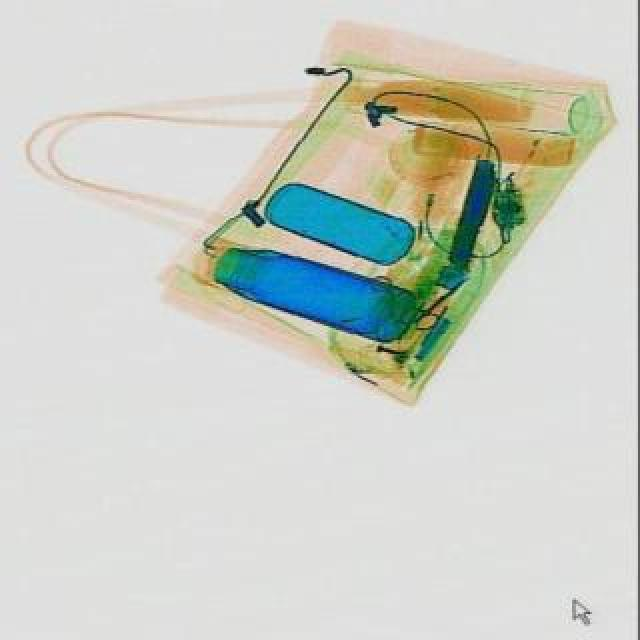pliers: (394, 262, 478, 338)
